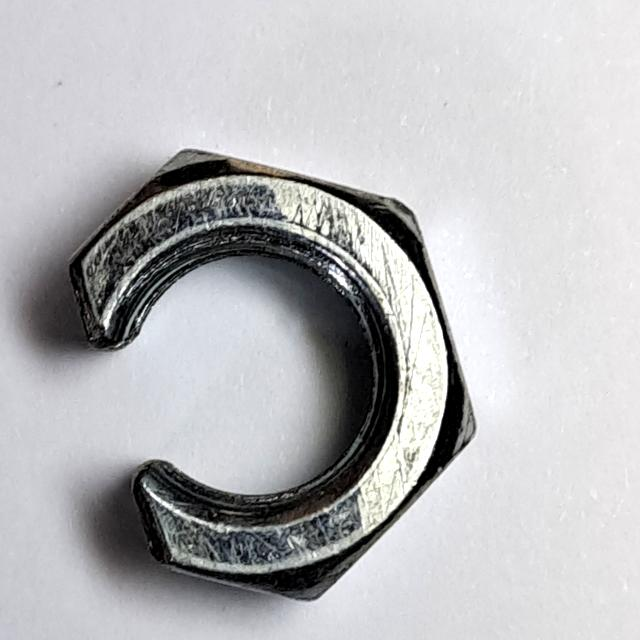Fracture: (59, 136, 483, 614)
